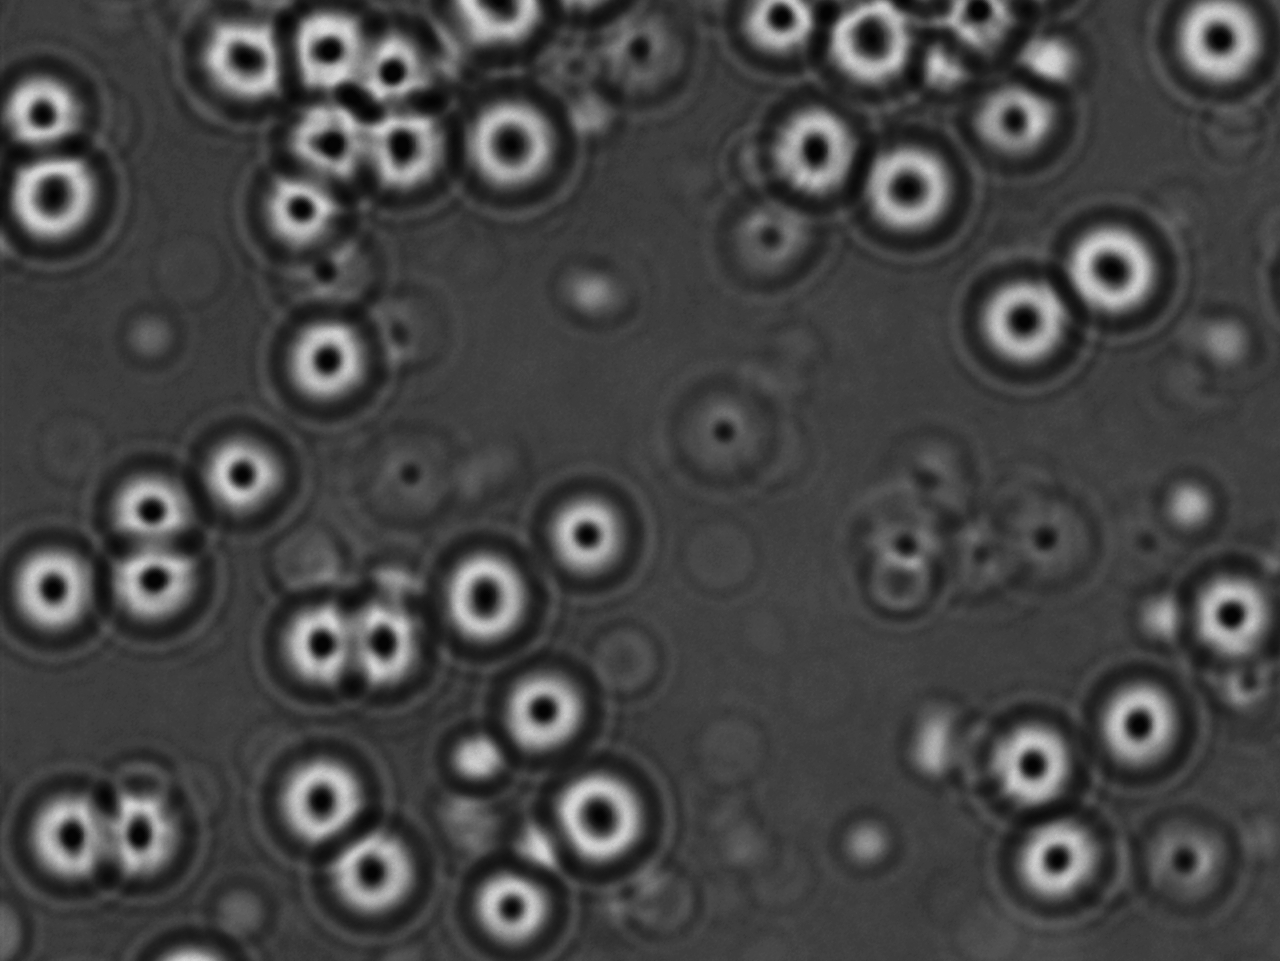depth:16: (951, 252, 1086, 395), (1048, 199, 1186, 329), (540, 747, 668, 882), (181, 413, 303, 540), (257, 733, 382, 855), (263, 293, 383, 417), (485, 646, 604, 766), (850, 126, 968, 247), (972, 701, 1095, 816), (97, 533, 221, 647), (310, 812, 430, 929), (92, 457, 208, 578), (3, 776, 118, 898), (427, 531, 541, 653), (461, 93, 579, 205), (1083, 667, 1202, 778), (2, 151, 119, 262), (758, 97, 873, 209), (261, 588, 374, 702), (530, 476, 647, 585), (963, 68, 1078, 177), (999, 802, 1112, 912), (1177, 552, 1280, 670), (458, 853, 570, 959), (351, 90, 460, 198), (193, 15, 307, 118), (338, 595, 445, 703), (247, 161, 356, 263), (280, 93, 386, 197), (283, 5, 387, 107), (343, 16, 435, 118)
